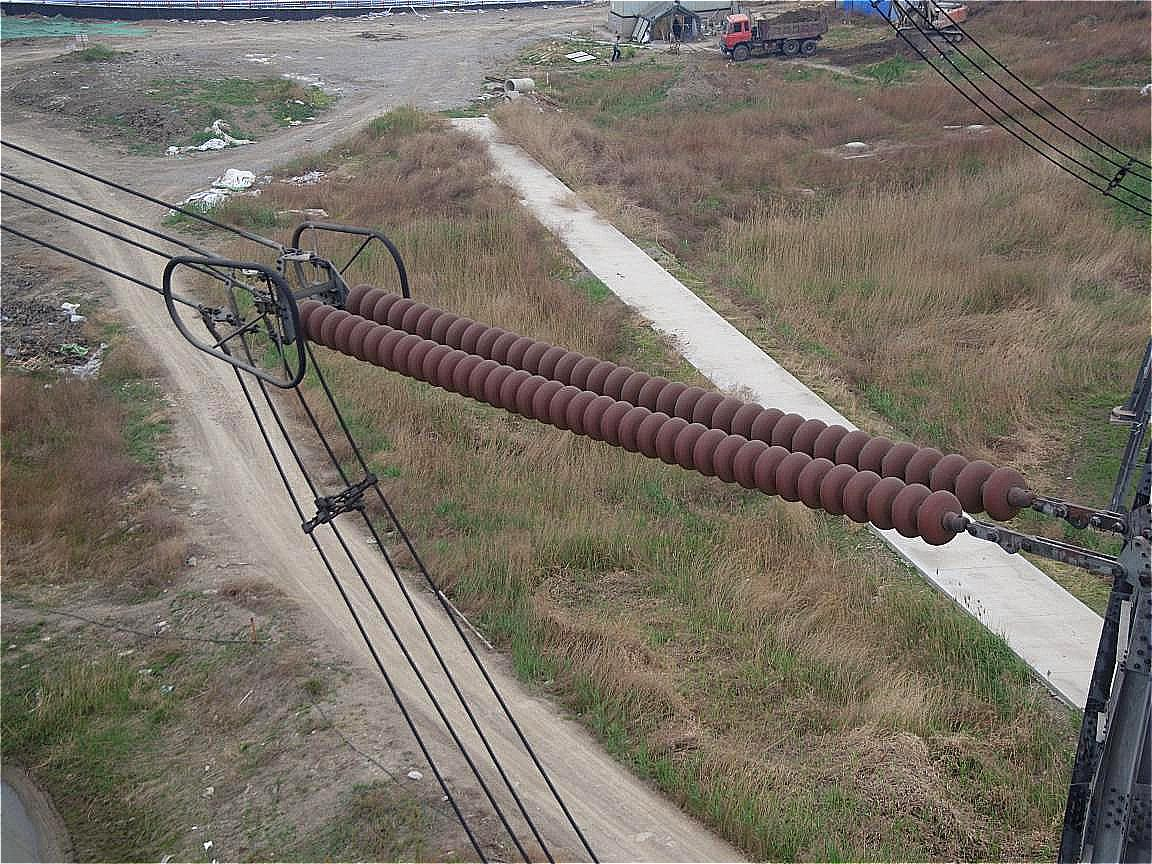insultor1: (277, 271, 1038, 546)
